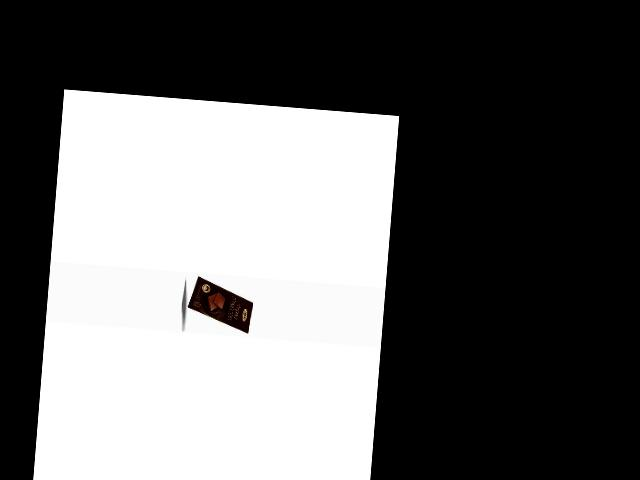chocolate: (183, 273, 255, 334)
